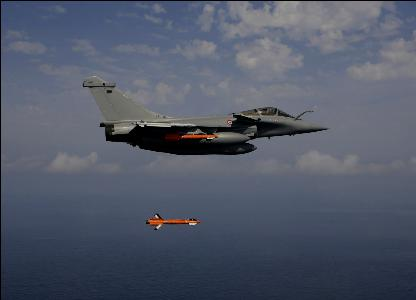RQ4: (82, 76, 328, 154)
